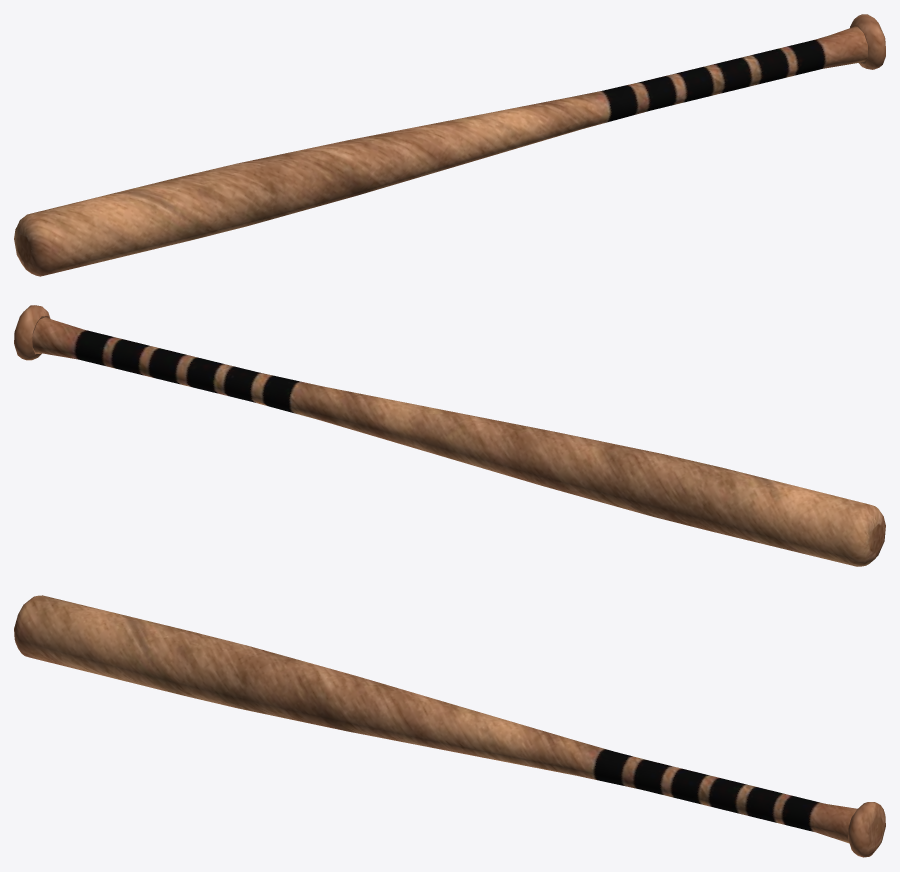
File: bat.glb
The picture shows the model from 3 angles, top to bottom: view 1: azimuth 30°, elevation 25°; view 2: azimuth 150°, elevation 25°; view 3: azimuth 330°, elevation 25°; orthographic projection.
Parts seen in each view (by area): view 1: Cylinder; view 2: Cylinder; view 3: Cylinder.
Part boxes in pixels (x1,y1,x2,y2): Cylinder: (14, 14, 885, 276); Cylinder: (14, 305, 885, 566); Cylinder: (14, 595, 885, 857).
Size of the model in its own units: 1.03 by 0.068 by 0.0675.
1 material, 1 textured.
